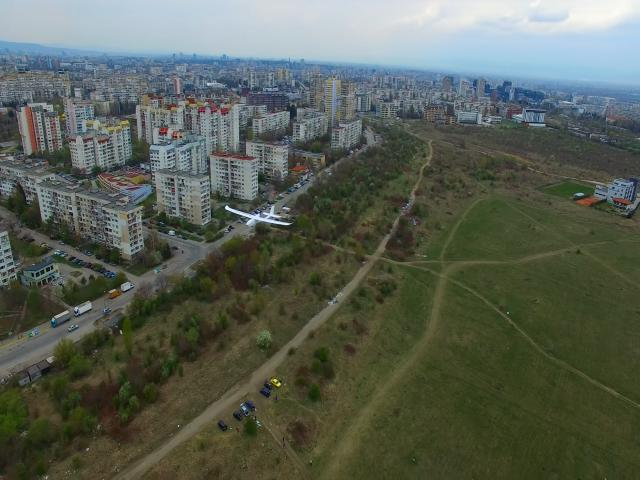plane: (225, 201, 293, 229)
